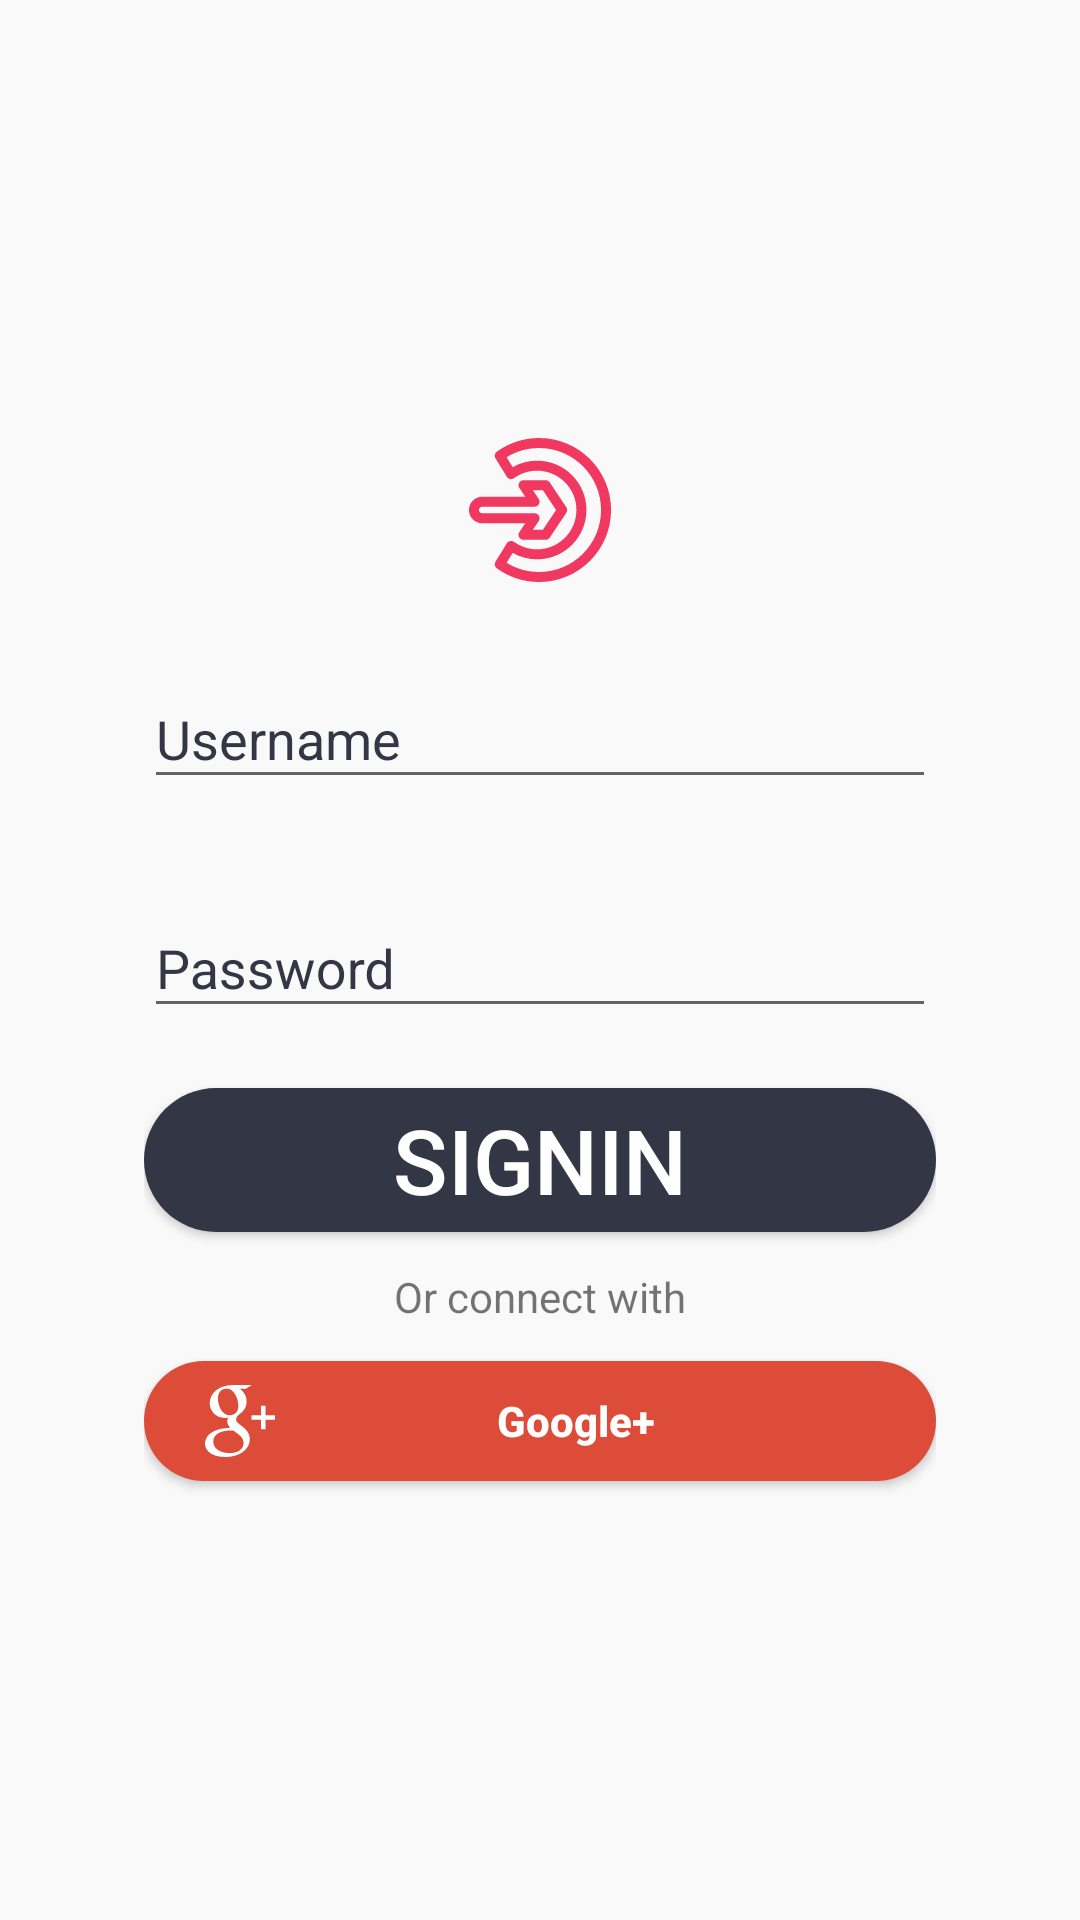

Point at icon controls on the screen. Image size 1080px x 1920px, points as point (x, y).
login: point (540, 510)
